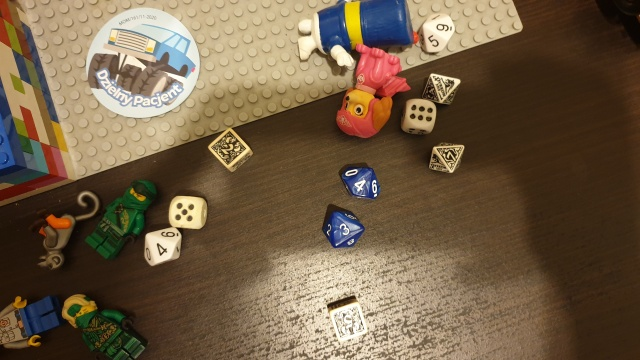d10-3: (321, 211, 371, 255)
d10-4: (338, 160, 382, 204), (138, 229, 186, 266)
d10-9: (416, 11, 456, 55)
d6-5: (165, 194, 206, 229)
d6-6: (401, 98, 440, 133)
d6p-2: (207, 130, 255, 172)
d6p-5: (323, 299, 372, 343)
d8p-1: (420, 70, 464, 107)
d8p-7: (427, 139, 467, 173)
